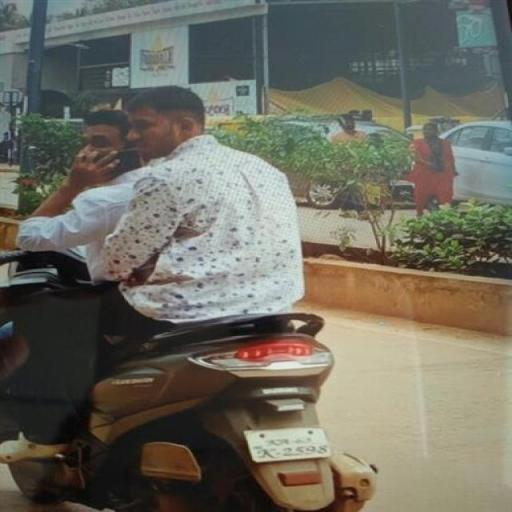using mobile: (69, 144, 154, 178)
